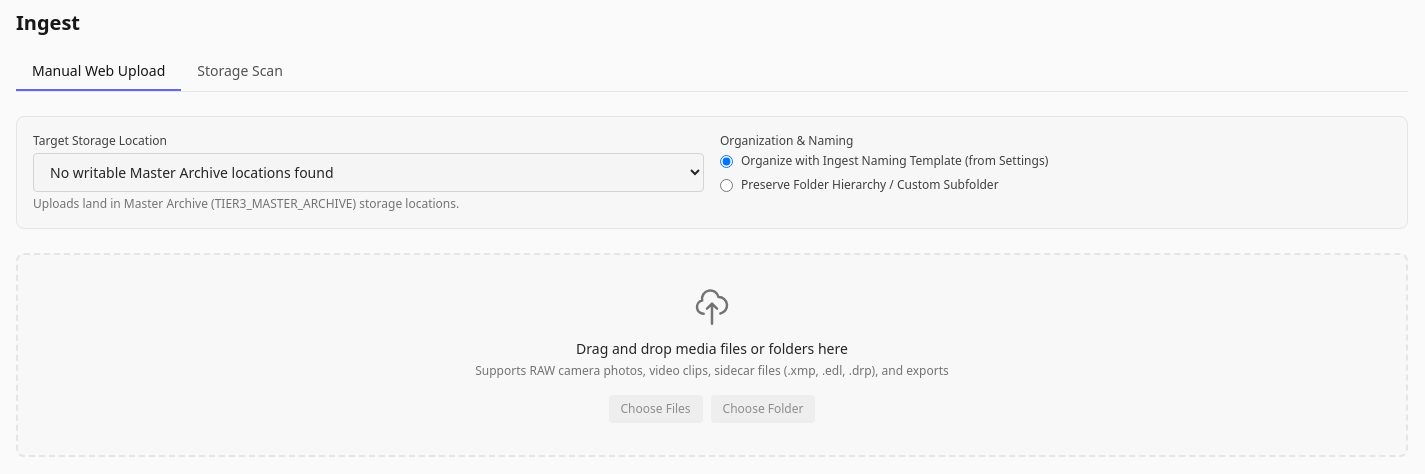
Test: IngestPage › surfaces an inline error message when startScan fails
Click the tab "Storage Scan" at (240, 72), box [181, 53, 299, 91]
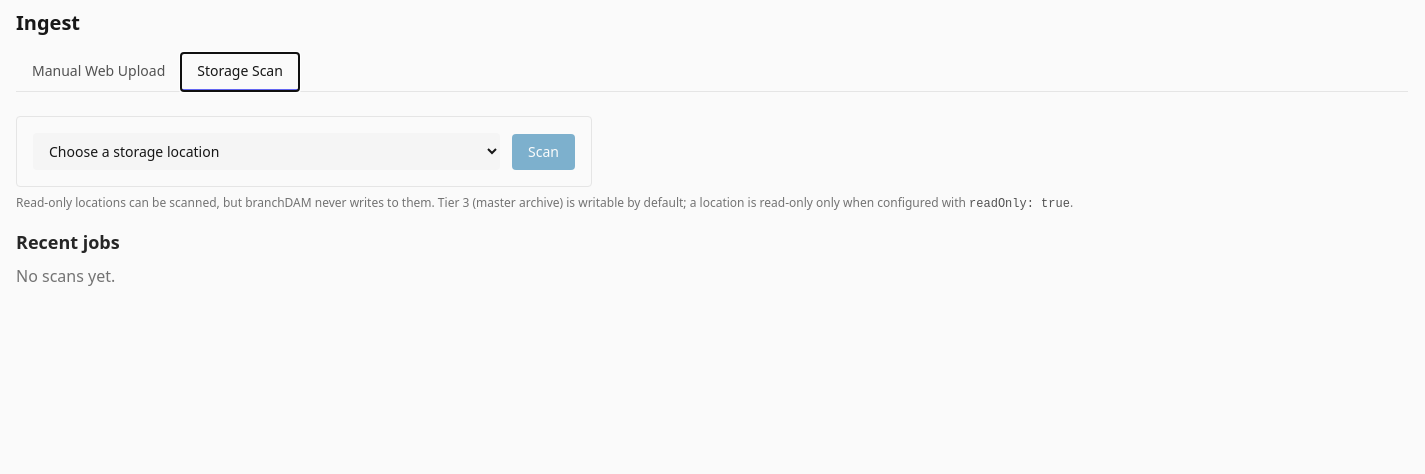
Select "exports · TIER2_EXPORTS" in the dropdown at (267, 152), box [33, 133, 500, 170]
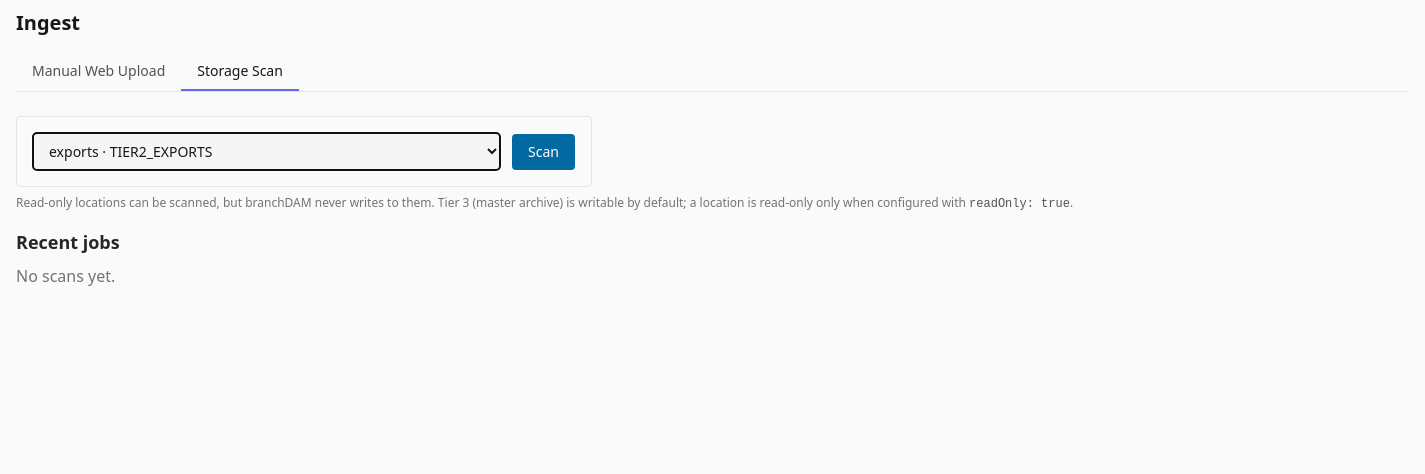
Click the button "Scan" at (544, 152), box [512, 134, 575, 170]
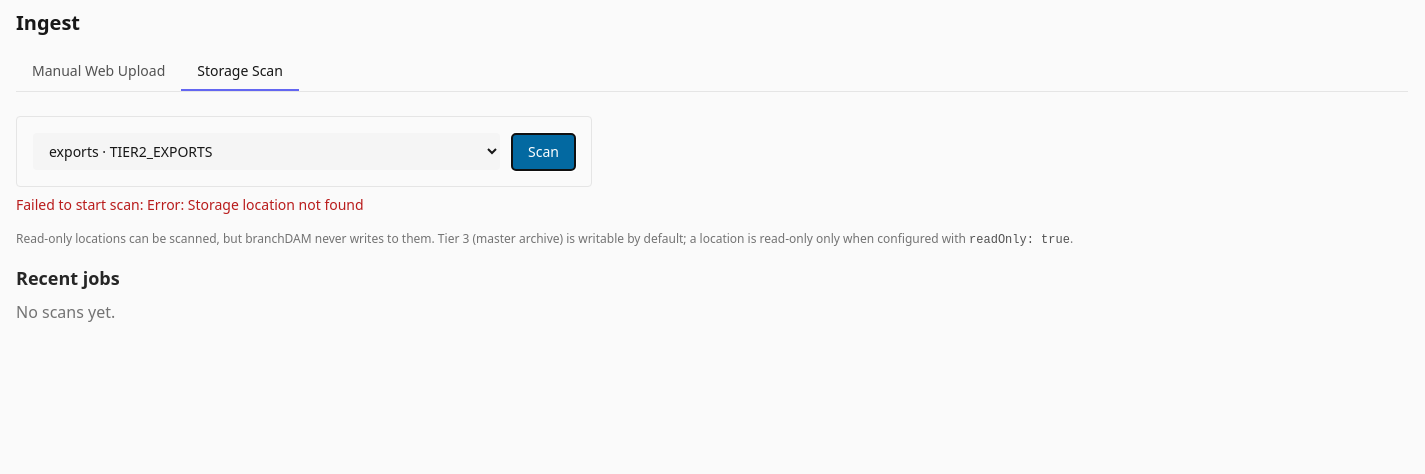
Expected: the text "Failed to start scan: Error: Storage location not found" is shown, [16, 195, 364, 214]
